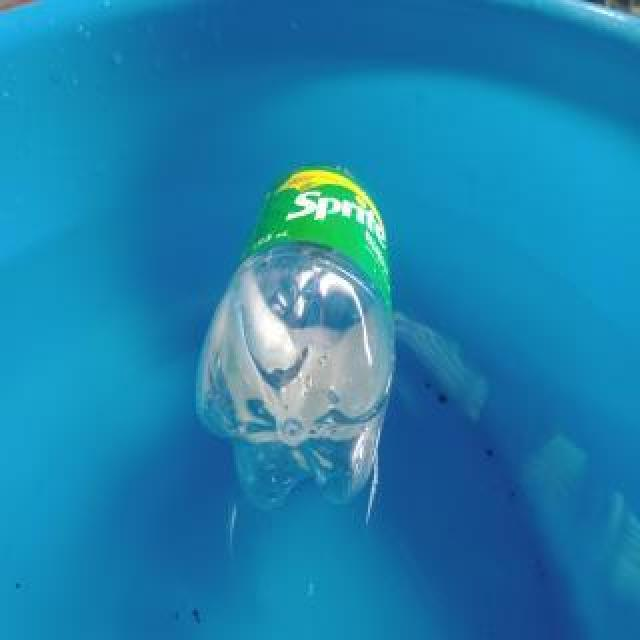bottle: (195, 157, 395, 511)
